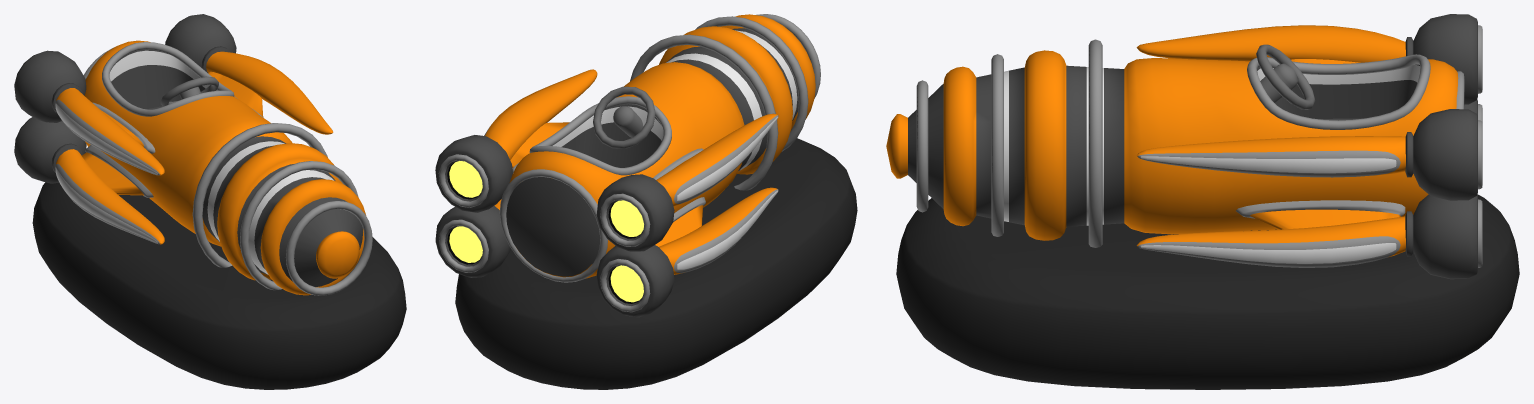
The model's file is mesh_Car_Menu_A.fbx.
The picture shows the model from 3 angles, left to right: view 1: azimuth 30°, elevation 25°; view 2: azimuth 150°, elevation 25°; view 3: azimuth 270°, elevation 25°; orthographic projection. The views are drawn at different scales.
Visible parts, largest first — view 1: mesh_Car_Menu_A; view 2: mesh_Car_Menu_A; view 3: mesh_Car_Menu_A.
Part boxes in pixels (x1,y1,x2,y2): mesh_Car_Menu_A: (14,14,406,389); mesh_Car_Menu_A: (435,14,857,389); mesh_Car_Menu_A: (886,14,1519,389).
Size of the model in its own units: 1.79 by 1.5 by 3.02.
